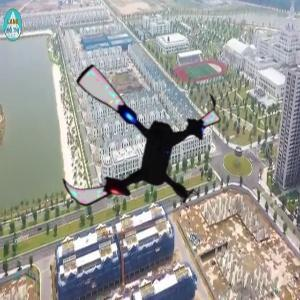drone: (46, 50, 227, 231)
